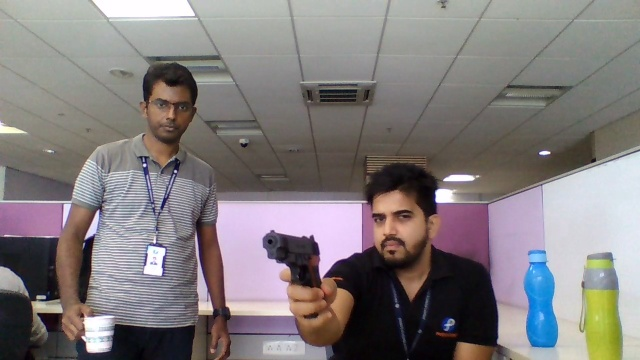gun: (262, 229, 322, 286)
